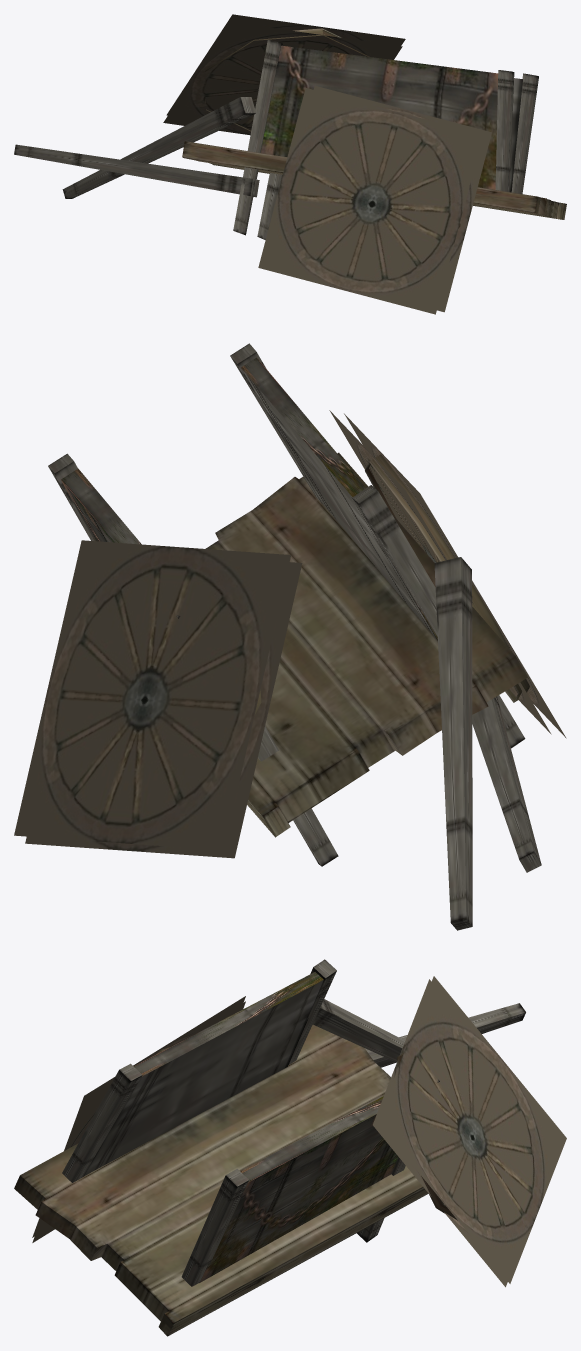
Rendered from cart_broken.fbx.
The picture shows the model from 3 angles, top to bottom: view 1: azimuth 30°, elevation 25°; view 2: azimuth 150°, elevation 25°; view 3: azimuth 270°, elevation 25°; orthographic projection. The views are drawn at different scales.
Parts seen in each view (by area): view 1: spokes1, sides1, spokes5, handle1, CartBase, handle2, spokes7, wood2, wood1, wood3, spokes2, wood4 (+3 smaller); view 2: spokes2, CartBase, handle2, sides1, spokes5, handle1, wood2, spokes7, sides2, wheel1, spokes1, wood4 (+2 smaller); view 3: CartBase, spokes2, sides1, sides2, wood1, wood3, handle2, spokes5, spokes7, handle1, wood2, spokes1.
Part boxes in pixels (x1=…): spokes1: x1=258, y1=88, x2=482, y2=314; sides1: x1=260, y1=45, x2=498, y2=189; spokes5: x1=163, y1=22, x2=402, y2=135; handle1: x1=14, y1=144, x2=259, y2=197; CartBase: x1=182, y1=141, x2=566, y2=219; handle2: x1=62, y1=97, x2=255, y2=198; spokes7: x1=313, y1=85, x2=491, y2=312; wood2: x1=233, y1=40, x2=282, y2=235; wood1: x1=495, y1=70, x2=514, y2=191; wood3: x1=511, y1=73, x2=538, y2=193; spokes2: x1=166, y1=14, x2=405, y2=115; wood4: x1=257, y1=173, x2=282, y2=239; spokes2: x1=14, y1=540, x2=291, y2=850; CartBase: x1=205, y1=452, x2=527, y2=837; handle2: x1=434, y1=557, x2=472, y2=930; sides1: x1=241, y1=357, x2=437, y2=640; spokes5: x1=25, y1=562, x2=302, y2=858; handle1: x1=472, y1=696, x2=541, y2=872; wood2: x1=352, y1=485, x2=525, y2=748; spokes7: x1=329, y1=410, x2=551, y2=734; sides2: x1=61, y1=468, x2=141, y2=544; wheel1: x1=365, y1=454, x2=529, y2=702; spokes1: x1=344, y1=413, x2=566, y2=738; wood4: x1=176, y1=615, x2=338, y2=866; CartBase: x1=14, y1=1024, x2=428, y2=1336; spokes2: x1=377, y1=976, x2=566, y2=1283; sides1: x1=83, y1=972, x2=323, y2=1176; sides2: x1=199, y1=1096, x2=398, y2=1282; wood1: x1=62, y1=1063, x2=142, y2=1182; wood3: x1=181, y1=1169, x2=248, y2=1286; handle2: x1=312, y1=999, x2=404, y2=1062; spokes5: x1=373, y1=979, x2=507, y2=1287; spokes7: x1=32, y1=1001, x2=245, y2=1242; handle1: x1=365, y1=1003, x2=525, y2=1067; wood2: x1=288, y1=959, x2=336, y2=1064; spokes1: x1=32, y1=996, x2=245, y2=1237.
Size of the model in its own units: 1395 by 705 by 1300.
Materials: 2 (2 with a texture image).
